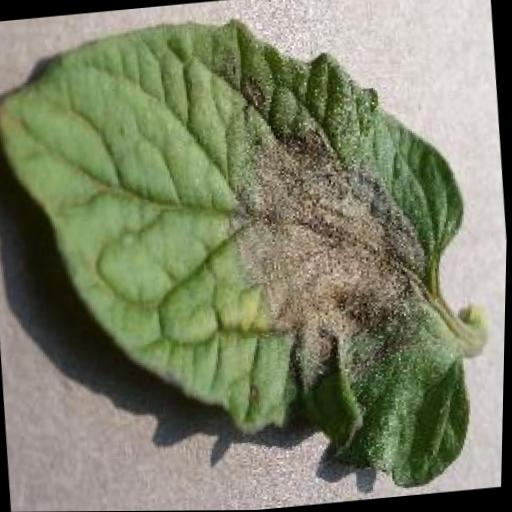Late Blight: (0, 0, 494, 512)
